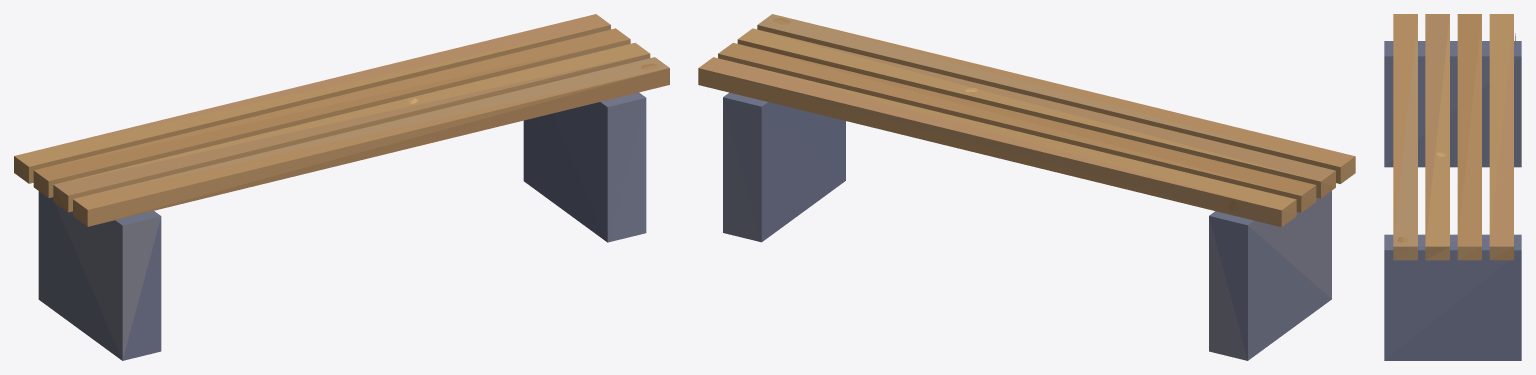
The model's file is HK_Bench.glb.
3 views of the same model, side by side, from view 1: azimuth 30°, elevation 25°; view 2: azimuth 150°, elevation 25°; view 3: azimuth 270°, elevation 25° (orthographic). The views are drawn at different scales.
Visible parts, largest first — view 1: HK_Bench; view 2: HK_Bench; view 3: HK_Bench.
Boxes of the visible parts, bbox=[...] form: HK_Bench: bbox=[14, 14, 669, 360]; HK_Bench: bbox=[698, 14, 1355, 360]; HK_Bench: bbox=[1384, 14, 1521, 360].
Bounding box in the file's own units: 1.8 × 0.4602 × 0.45.
